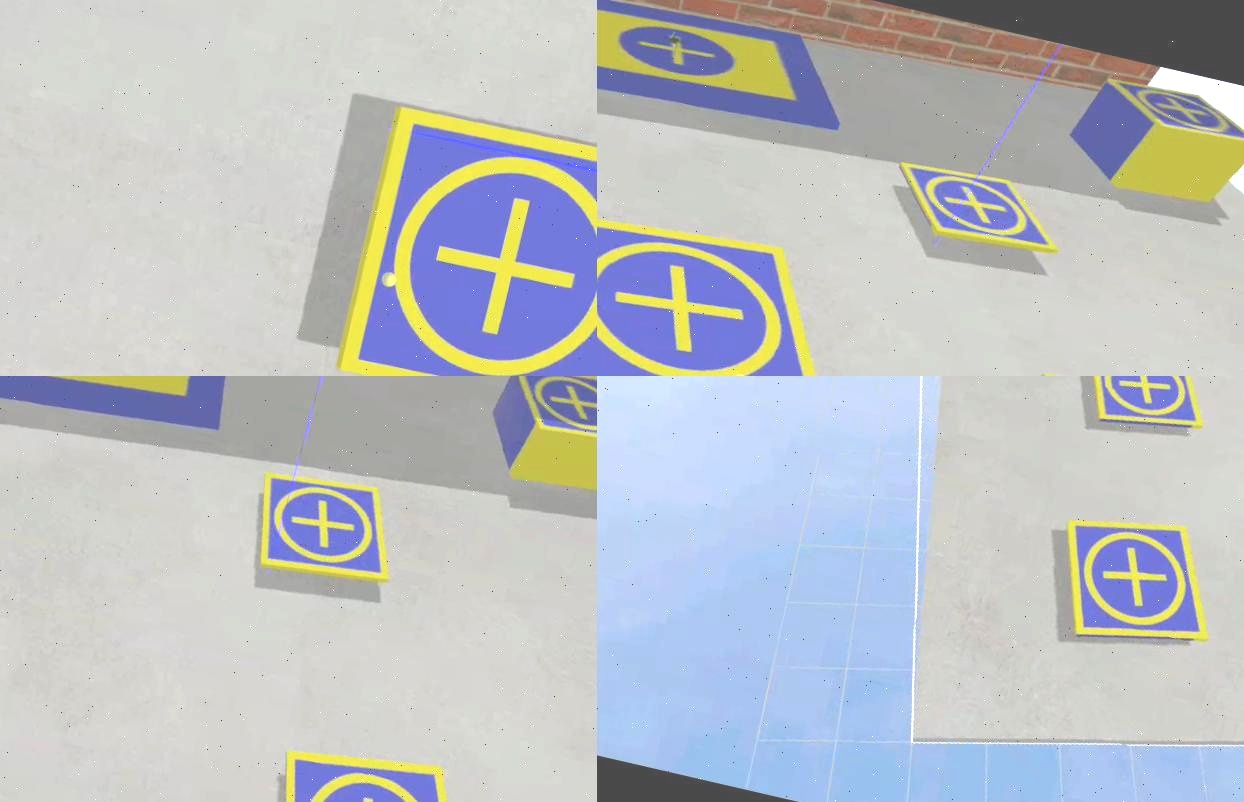large_base: (598, 1, 866, 145), (0, 376, 249, 455)
small_base: (335, 100, 598, 376), (598, 199, 862, 376), (1043, 500, 1228, 666), (250, 472, 409, 602), (889, 155, 1068, 263), (259, 734, 497, 802), (1096, 69, 1244, 157), (1072, 376, 1218, 447), (502, 376, 598, 459)
